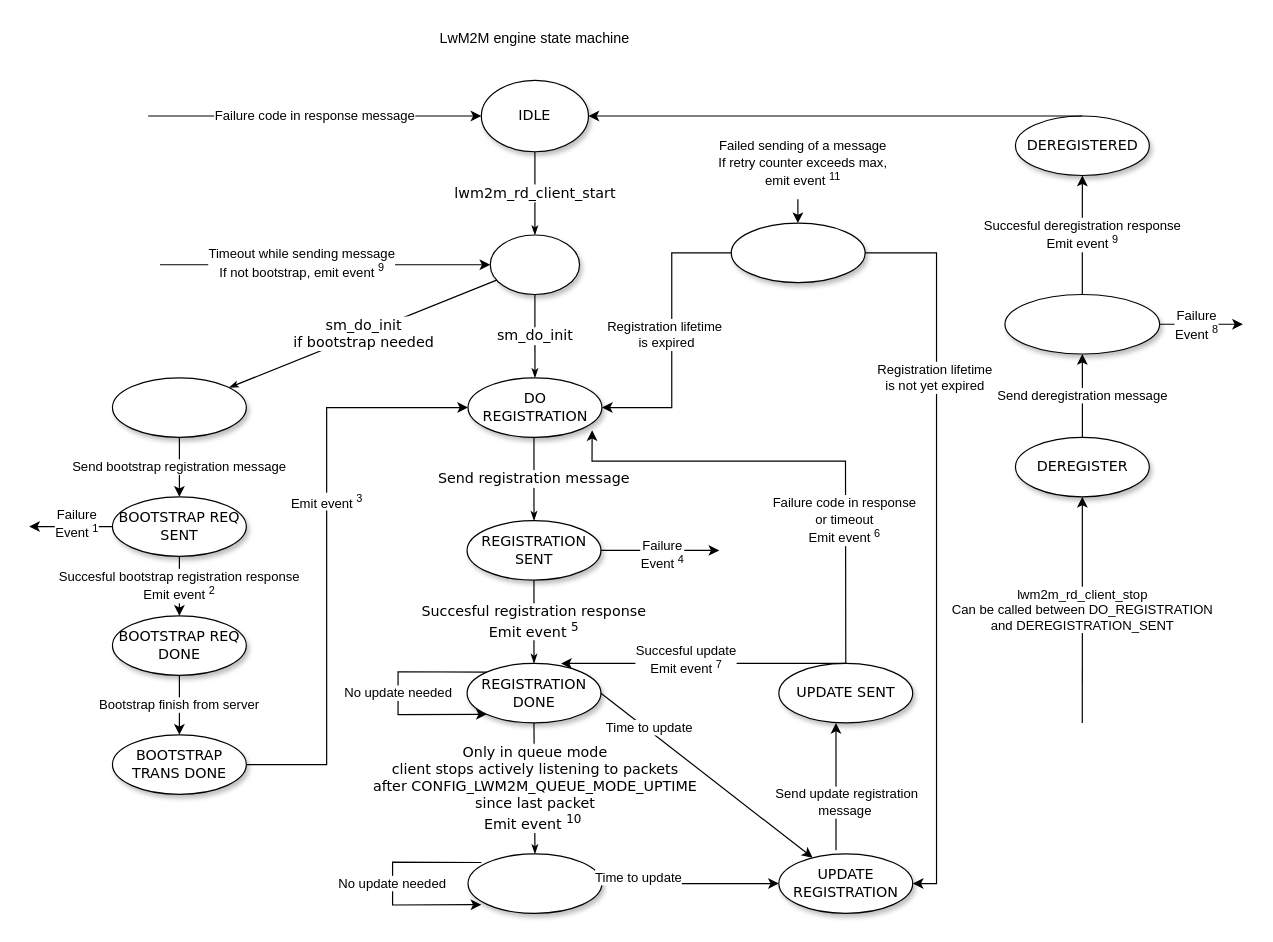
Some shapes in this 1273 by 942 pixel diagram are drawn without their labels. Here are the shapes that lost their labels. From the top down, the centre of each, then its label:
At (x=535, y=266): "INIT".
At (x=798, y=254): "NETWORK ERROR".
At (x=1083, y=325): "DEREGISTRATION SENT".
At (x=180, y=409): "DO BOOTSTRAP REG".
At (x=535, y=885): "REGISTRATION DONE RX OFF".
